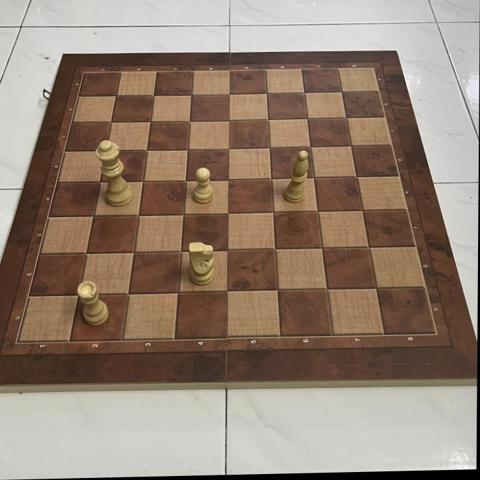xcorner: (333, 83, 351, 101), (142, 112, 160, 130), (103, 113, 121, 131), (220, 170, 238, 188), (309, 202, 327, 220), (220, 204, 238, 222), (367, 279, 385, 297), (318, 280, 336, 298), (259, 84, 276, 102), (183, 86, 201, 103), (146, 86, 163, 104), (260, 110, 277, 128), (343, 137, 360, 155), (302, 138, 320, 155), (261, 139, 279, 156), (221, 139, 238, 157), (180, 140, 197, 158), (178, 171, 195, 189), (265, 203, 282, 221), (175, 205, 193, 222), (360, 239, 378, 256), (314, 239, 331, 257), (267, 240, 284, 258), (220, 241, 237, 259), (173, 242, 190, 260), (126, 243, 143, 261), (79, 244, 96, 262), (269, 281, 286, 299), (170, 284, 188, 301), (296, 84, 313, 101), (221, 85, 238, 102), (108, 87, 125, 104), (338, 109, 355, 126), (299, 110, 316, 127), (221, 111, 238, 128), (182, 112, 199, 129), (139, 141, 156, 158), (98, 142, 115, 159), (348, 168, 365, 185), (306, 169, 323, 186), (263, 170, 280, 187), (135, 172, 152, 189), (92, 173, 109, 190), (354, 202, 371, 219), (131, 206, 148, 223), (86, 207, 103, 224), (220, 283, 237, 300), (121, 285, 138, 302), (71, 286, 88, 303)
